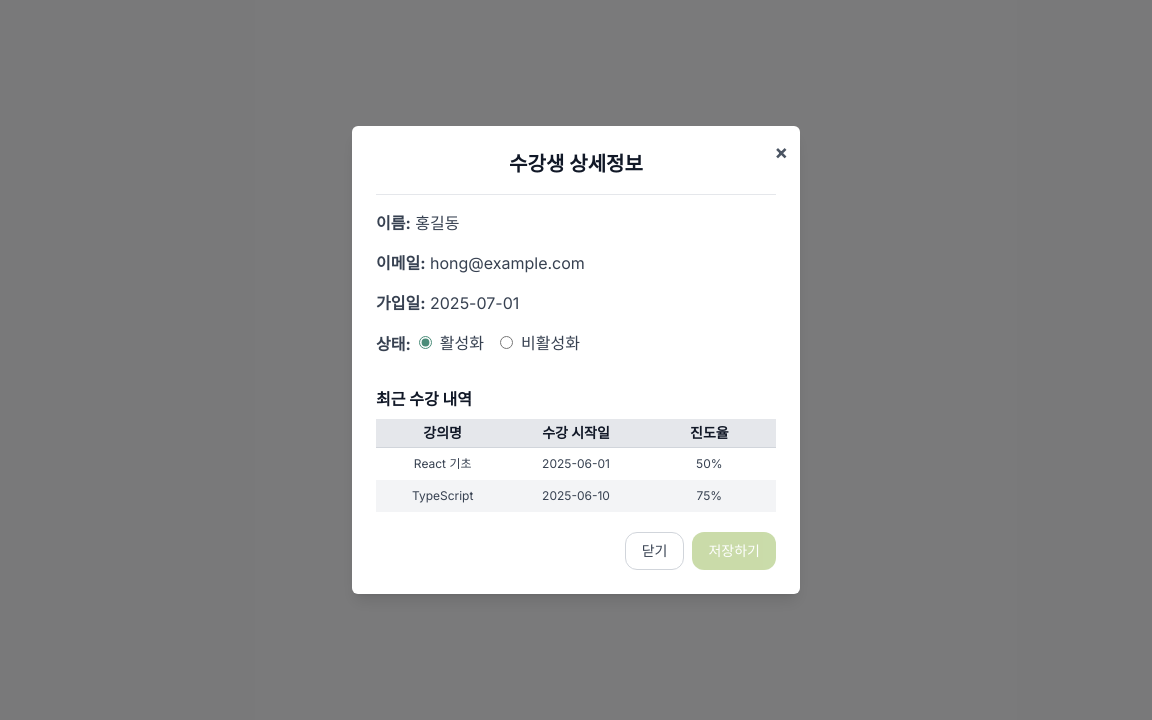
StudentInfoModal › 상태 변경 시 저장 버튼 활성화/비활성화가 반영된다
The image size is (1152, 720).
Expected: the button "저장하기" is disabled, [692,532,776,570]
Click the radio button labelled "비활성화": (506, 343) [500,336,513,349]
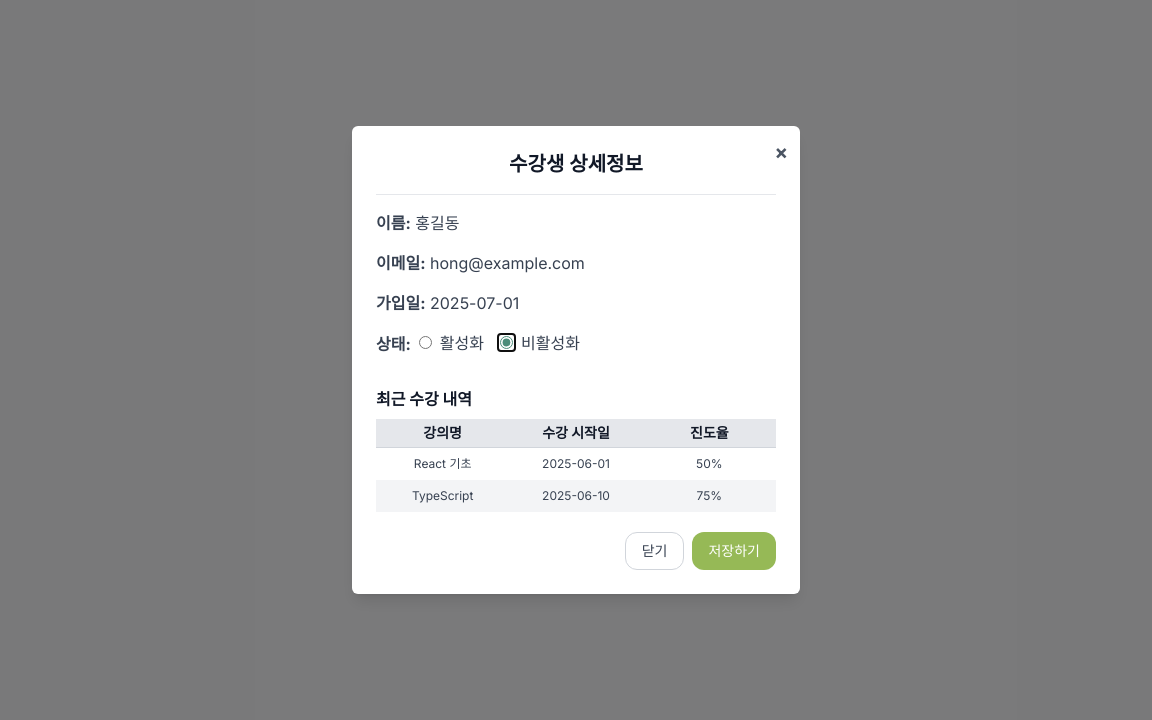
Now the button "저장하기" is enabled, box [692,532,776,570]
Click the radio button labelled "활성화": (425, 343) [419,336,432,349]
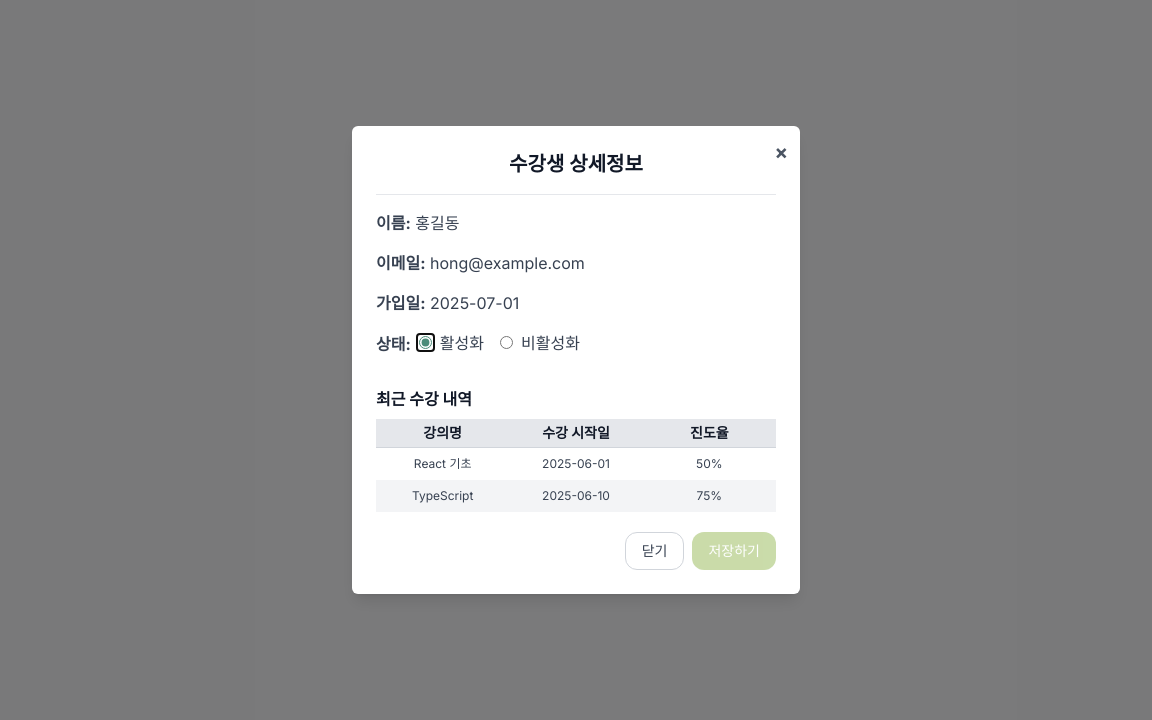
Now the button "저장하기" is disabled, box [692,532,776,570]
